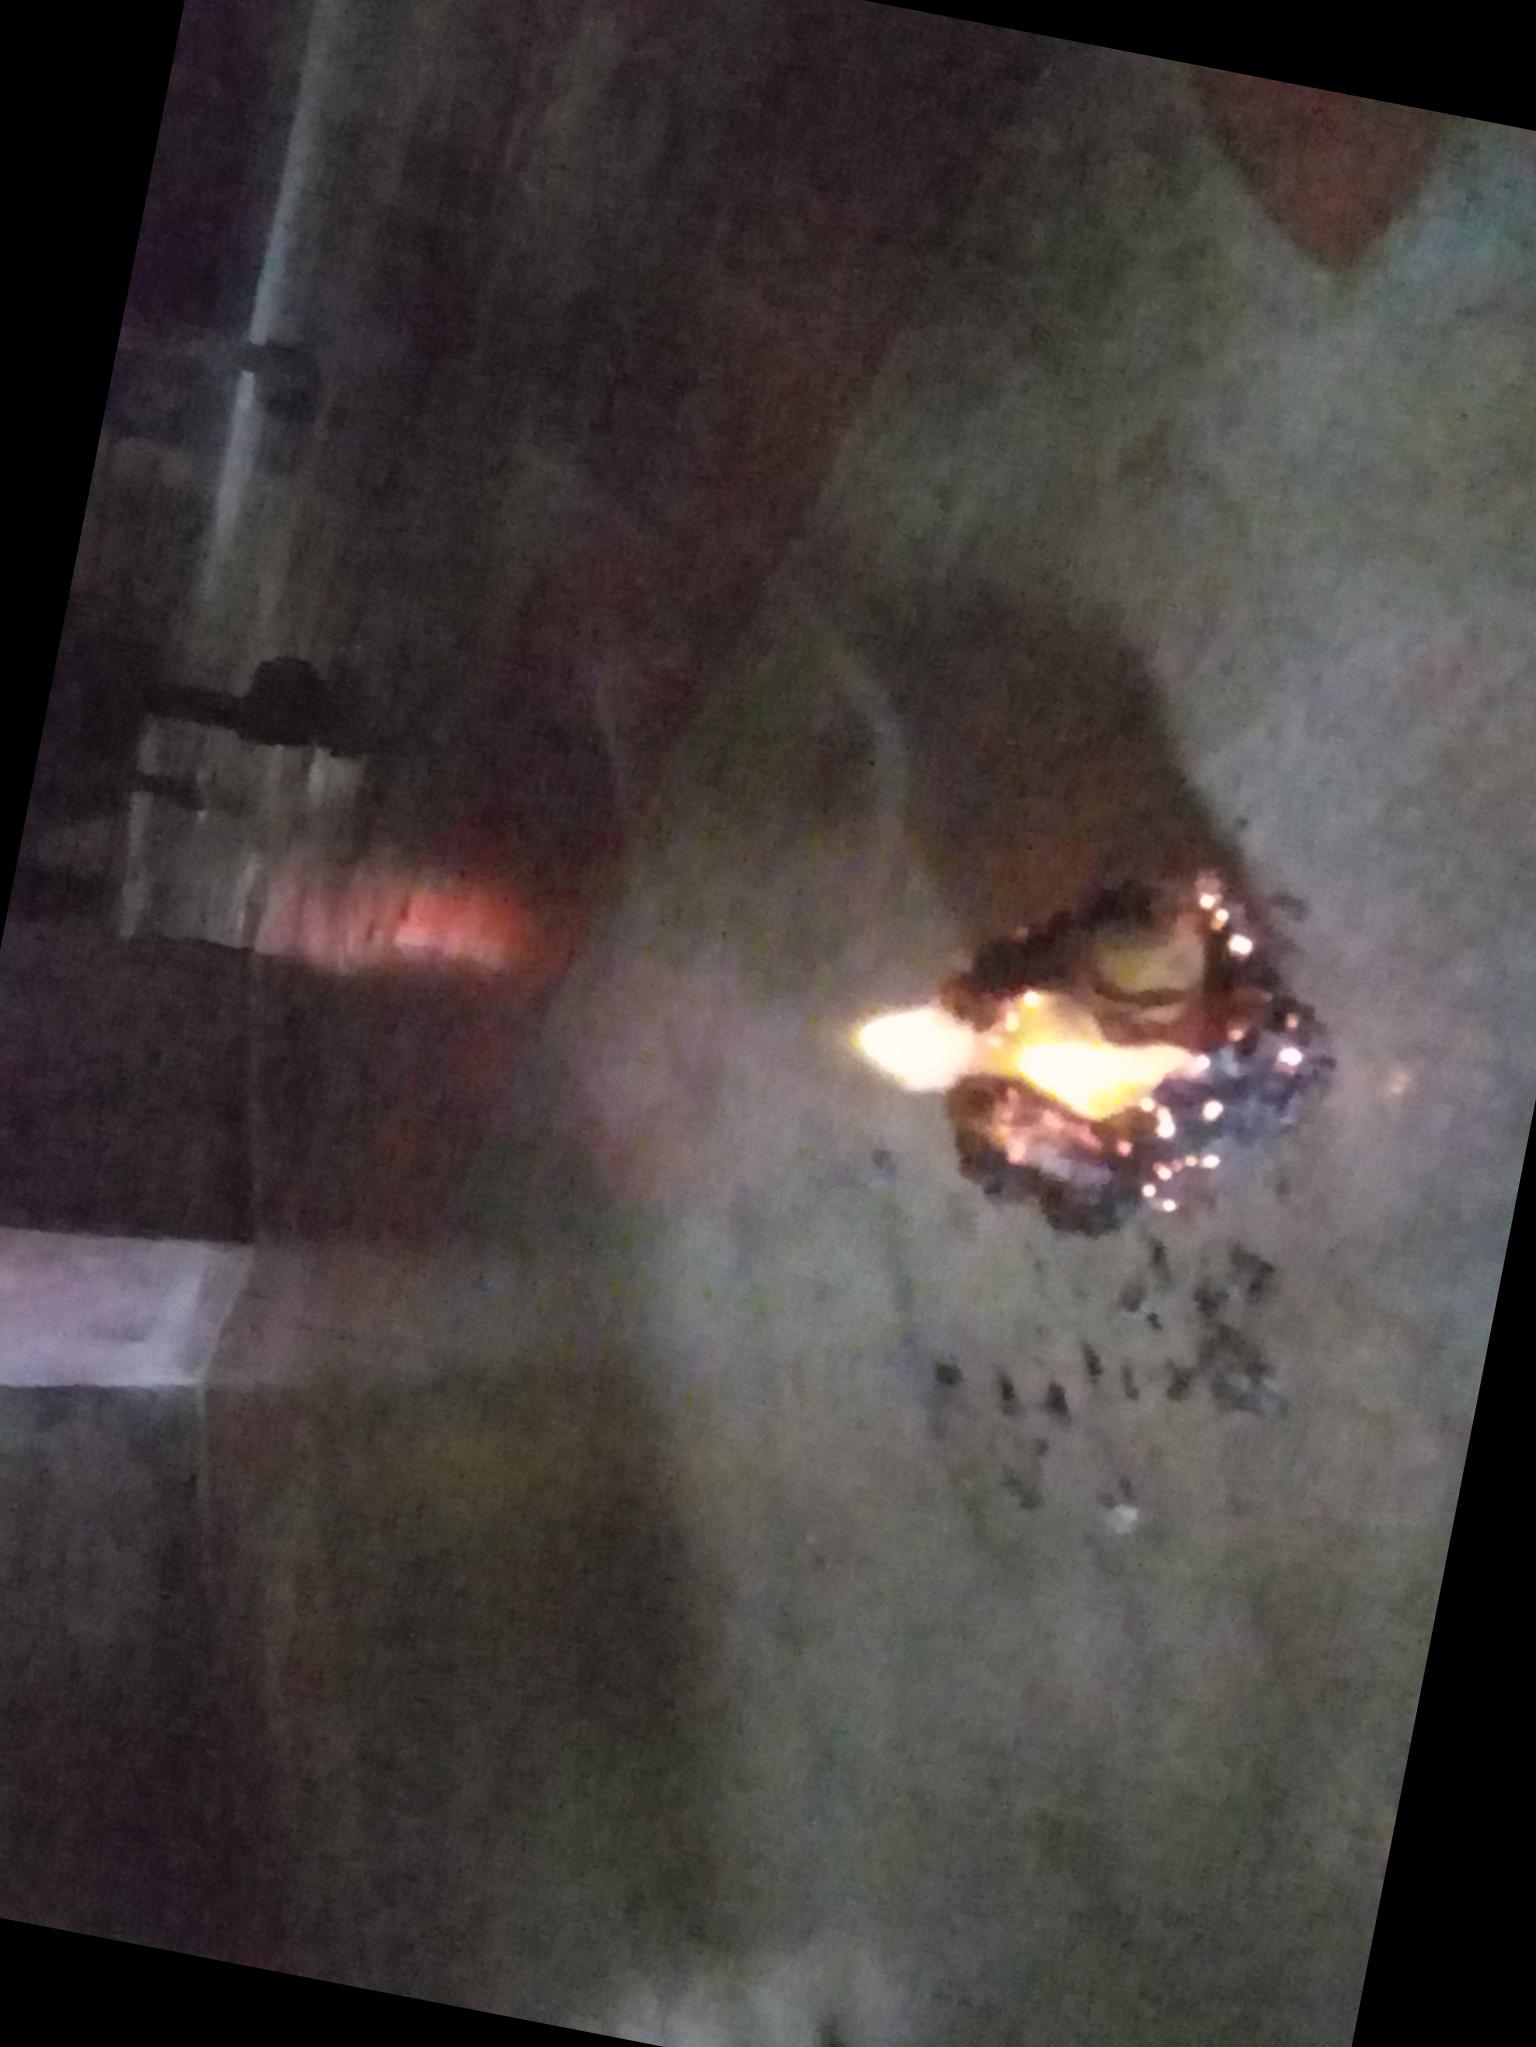Fire: (829, 976, 1267, 1163)
